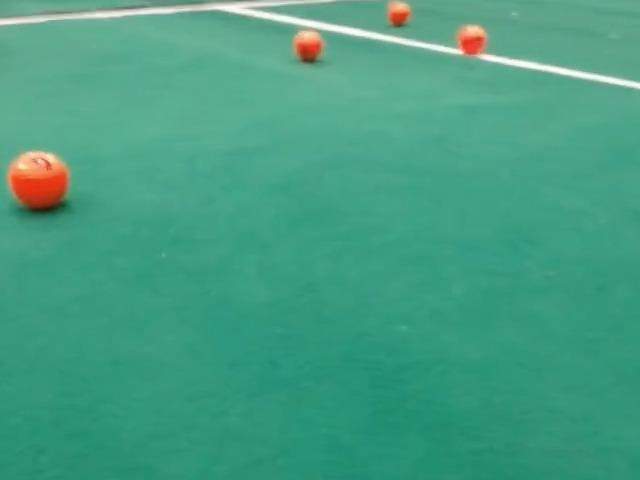Ball: (7, 151, 69, 210), (293, 30, 322, 62), (457, 25, 486, 54), (387, 1, 410, 26)
